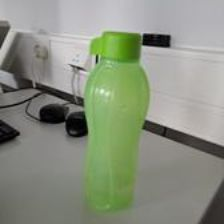bottle: (75, 26, 153, 212)
